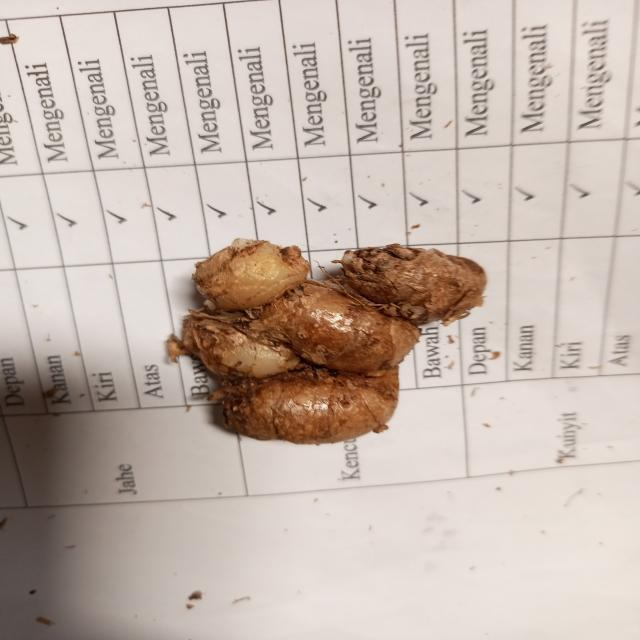ginger: (188, 237, 484, 440)
